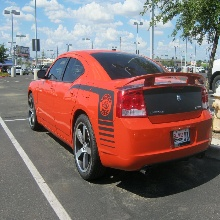no damage: (27, 48, 214, 181)
